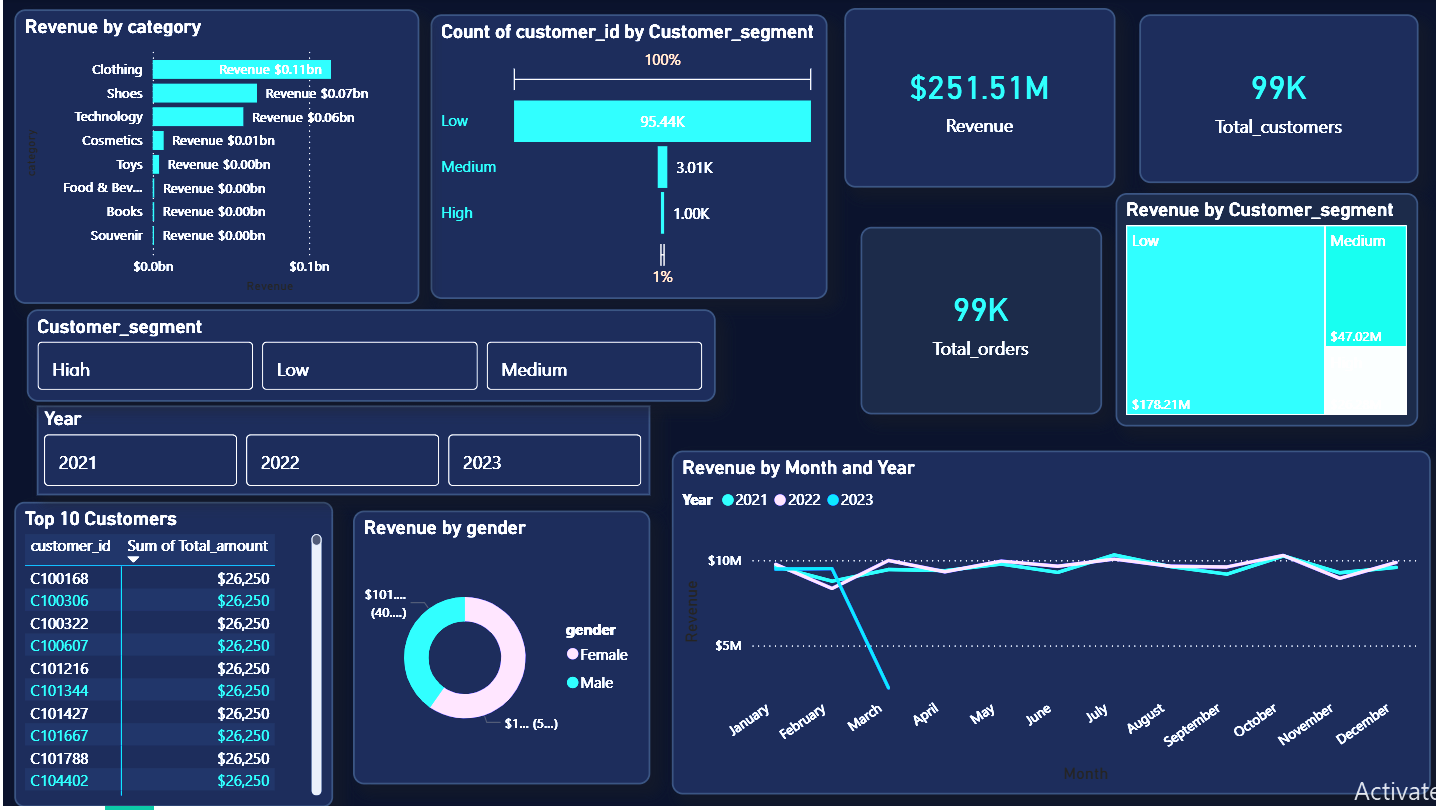

This screenshot's page, from the dashboard's own definition file:
{"tool":"powerbi","page":{"name":"Page 1","canvas":[1280,720],"ordinal":0},"visuals":[{"type":"card","fields":{"Values":["customer_shopping_data.Revenue"]},"box":[749.2,8.9,241.6,160.3],"z":0},{"type":"card","fields":{"Values":["customer_shopping_data.Total_customers"]},"box":[1011.6,14,248.8,150],"z":1000},{"type":"card","fields":{"Values":["customer_shopping_data.Total_orders"]},"box":[763.6,203.7,214.8,167],"z":2000},{"type":"funnel","fields":{"Category":["customer_shopping_data.Customer_segment"],"Y":["CountNonNull(customer_shopping_data.customer_id)"]},"box":[380.7,14.5,354,253.8],"z":3000},{"type":"treemap","fields":{"Group":["customer_shopping_data.Customer_segment"],"Values":["customer_shopping_data.Revenue"]},"box":[990.7,173.3,269.8,208.1],"z":4000},{"type":"lineChart","fields":{"Category":["customer_shopping_data.invoice_date.Variation.Date Hierarchy.Month"],"Y":["customer_shopping_data.Revenue"],"Series":["customer_shopping_data.invoice_date.Variation.Date Hierarchy.Year"]},"box":[595.6,403,675.7,306.1],"z":5000},{"type":"pivotTable","title":"Top 10 Customers","fields":{"Values":["Sum(customer_shopping_data.Total_amount)"],"Rows":["customer_shopping_data.customer_id"]},"box":[10,448.6,283.9,271.6],"z":6000},{"type":"barChart","fields":{"Category":["customer_shopping_data.category"],"Y":["customer_shopping_data.Revenue"]},"box":[10,10,360.7,262.7],"z":7000},{"type":"donutChart","fields":{"Category":["customer_shopping_data.gender"],"Y":["customer_shopping_data.Revenue"]},"box":[311.7,456.4,264.9,243.8],"z":8000},{"type":"advancedSlicerVisual","fields":{"Values":["customer_shopping_data.invoice_date.Variation.Date Hierarchy.Year"]},"box":[30.1,362.9,546.6,80.1],"z":9000},{"type":"advancedSlicerVisual","fields":{"Values":["customer_shopping_data.Customer_segment"]},"box":[21.2,277.2,613.4,82.4],"z":10000}]}

Visuals, with their boxes in screenshot pixels (x1, y1, x2, y2), scaled from the page's 1280x720 canvas onto the 1436x810 screenshot:
card - customer_shopping_data.Revenue: BBox(841, 10, 1112, 190)
card - customer_shopping_data.Total_customers: BBox(1135, 16, 1414, 184)
card - customer_shopping_data.Total_orders: BBox(857, 229, 1098, 417)
funnel - customer_shopping_data.Customer_segment x CountNonNull(customer_shopping_data.customer_id): BBox(427, 16, 824, 302)
treemap - customer_shopping_data.Customer_segment x customer_shopping_data.Revenue: BBox(1111, 195, 1414, 429)
lineChart - customer_shopping_data.invoice_date.Variation.Date Hierarchy.Month x customer_shopping_data.Revenue: BBox(668, 453, 1426, 798)
"Top 10 Customers" pivotTable: BBox(11, 505, 330, 809)
barChart - customer_shopping_data.category x customer_shopping_data.Revenue: BBox(11, 11, 416, 307)
donutChart - customer_shopping_data.gender x customer_shopping_data.Revenue: BBox(350, 513, 647, 788)
advancedSlicerVisual - customer_shopping_data.invoice_date.Variation.Date Hierarchy.Year: BBox(34, 408, 647, 498)
advancedSlicerVisual - customer_shopping_data.Customer_segment: BBox(24, 312, 712, 405)
